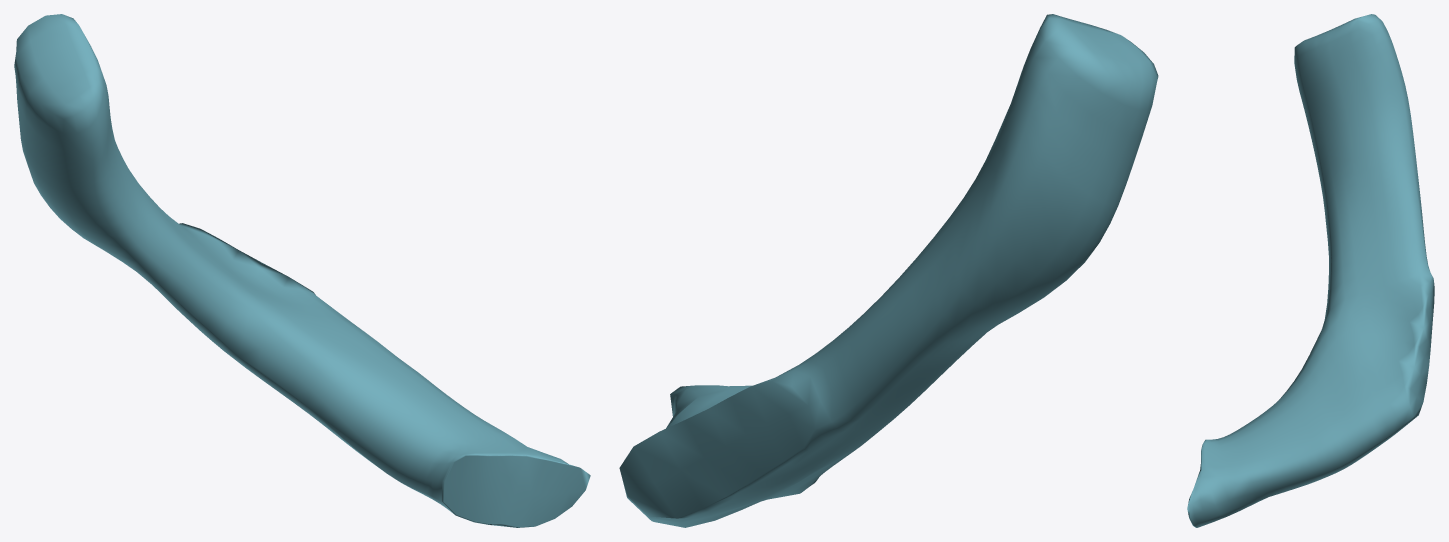
The picture shows the model from 3 angles, left to right: view 1: azimuth 30°, elevation 25°; view 2: azimuth 150°, elevation 25°; view 3: azimuth 270°, elevation 25°; orthographic projection. The views are drawn at different scales.
Parts seen in each view (by area): view 1: 右侧第九肋软骨; view 2: 右侧第九肋软骨; view 3: 右侧第九肋软骨.
Boxes of the visible parts, left/top/right/bottom form: 右侧第九肋软骨: left=14, top=14, right=590, bottom=527; 右侧第九肋软骨: left=619, top=14, right=1158, bottom=527; 右侧第九肋软骨: left=1187, top=14, right=1434, bottom=527.
Bounding box in the file's own units: 0.0911 × 0.0983 × 0.058.
